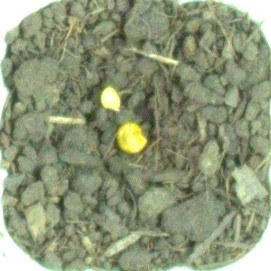chilli seed: (114, 121, 149, 154), (98, 85, 124, 113)
